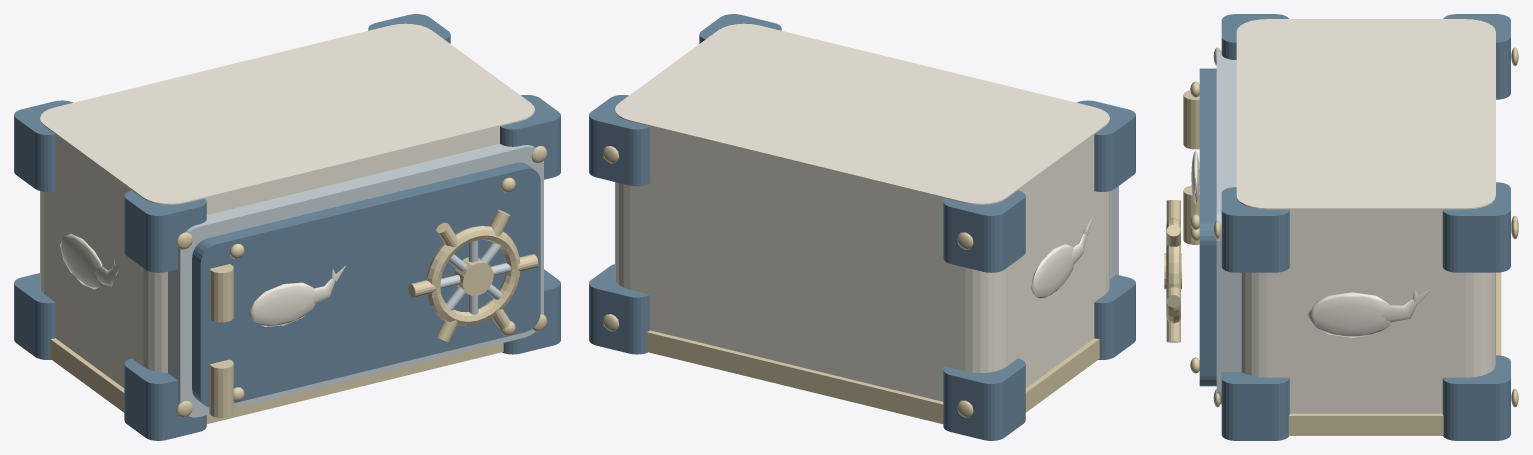
File: library_safe_compact.glb
3 views of the same model, side by side, from view 1: azimuth 30°, elevation 25°; view 2: azimuth 150°, elevation 25°; view 3: azimuth 270°, elevation 25° (orthographic).
Parts seen in each view (by area): view 1: decor_e0d7bf_matte, decor_29445e_matte, decor_9aadb8_metal, decor_bca46d_metal; view 2: decor_e0d7bf_matte, decor_29445e_matte, decor_bca46d_metal, decor_9aadb8_metal; view 3: decor_e0d7bf_matte, decor_29445e_matte, decor_bca46d_metal, decor_9aadb8_metal.
Part boxes in pixels (x1,y1,x2,y2): decor_e0d7bf_matte: [40, 23, 534, 387]; decor_29445e_matte: [14, 14, 560, 440]; decor_9aadb8_metal: [168, 143, 543, 417]; decor_bca46d_metal: [50, 146, 547, 423]; decor_e0d7bf_matte: [615, 23, 1109, 401]; decor_29445e_matte: [589, 14, 1135, 440]; decor_bca46d_metal: [602, 146, 1099, 423]; decor_9aadb8_metal: [1110, 186, 1118, 278]; decor_e0d7bf_matte: [1191, 19, 1495, 435]; decor_29445e_matte: [1199, 14, 1510, 440]; decor_bca46d_metal: [1164, 47, 1518, 435]; decor_9aadb8_metal: [1216, 50, 1241, 404].
Bounding box in the file's own units: 1.75 × 0.92 × 1.3.
